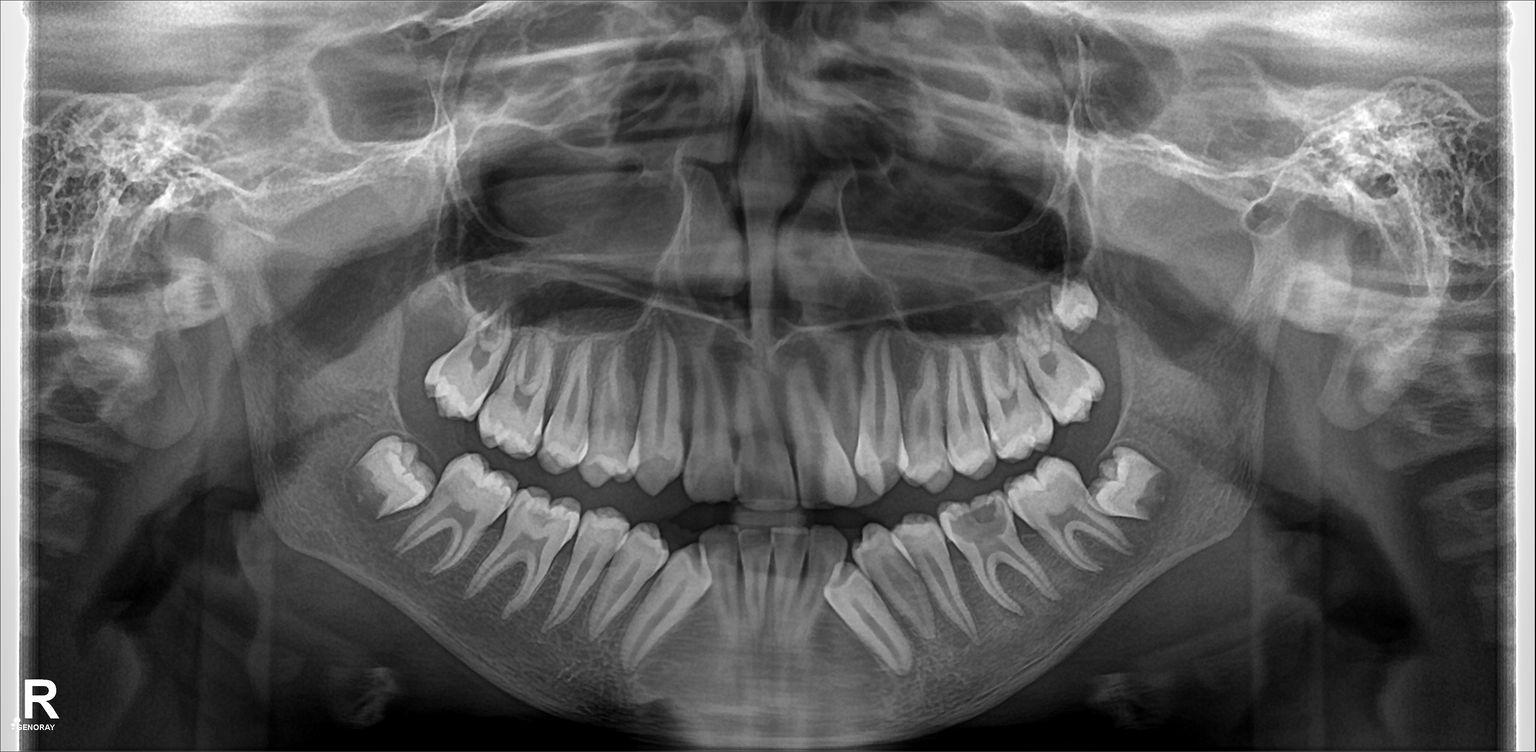Impacted Third Molar: (352, 432, 438, 524), (1099, 452, 1174, 523), (1063, 287, 1104, 332)
Missing Tooth: (389, 285, 444, 375)
